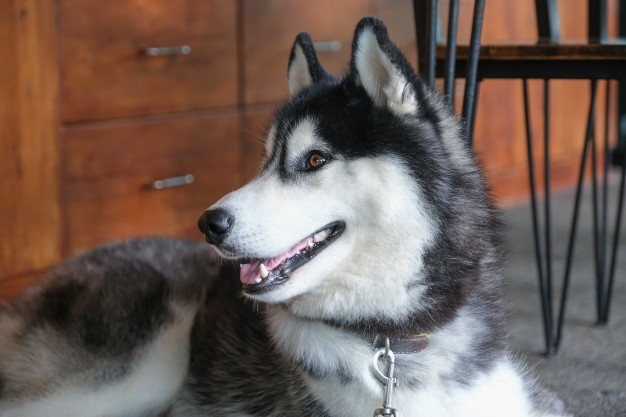husky: (179, 17, 528, 372)
